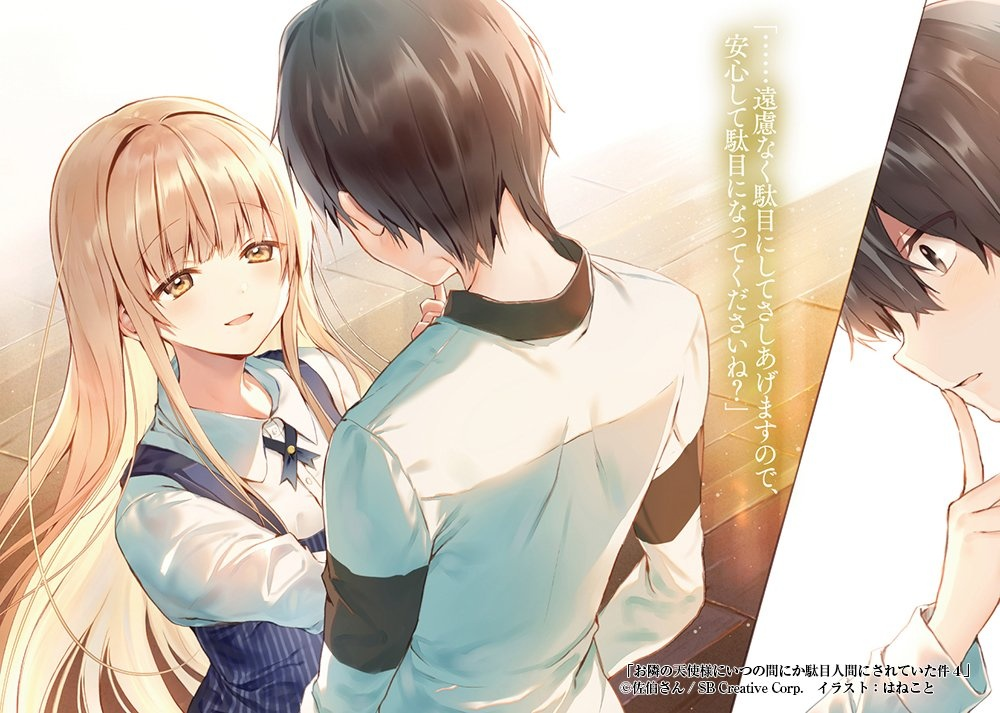纸片人正脸: (42, 85, 313, 363)
